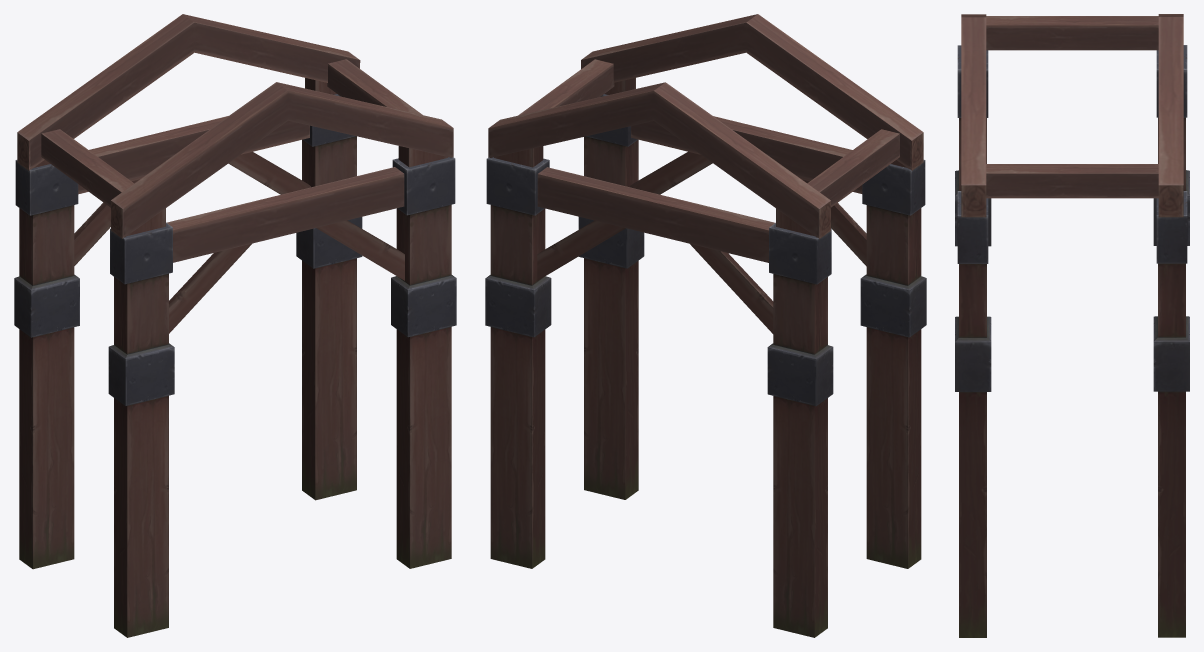
Rendered from scene_malujiakuangdao_wooddoor01.FBX.
3 views of the same model, side by side, from view 1: azimuth 30°, elevation 25°; view 2: azimuth 150°, elevation 25°; view 3: azimuth 270°, elevation 25° (orthographic). The views are drawn at different scales.
Parts seen in each view (by area): view 1: scene_malujiakuangdao_wooddoor01; view 2: scene_malujiakuangdao_wooddoor01; view 3: scene_malujiakuangdao_wooddoor01.
Part boxes in pixels (x1,y1,x2,y2): scene_malujiakuangdao_wooddoor01: (14, 14, 456, 637); scene_malujiakuangdao_wooddoor01: (485, 14, 926, 637); scene_malujiakuangdao_wooddoor01: (955, 14, 1189, 637).
Size of the model in its own units: 233 by 341 by 135.
